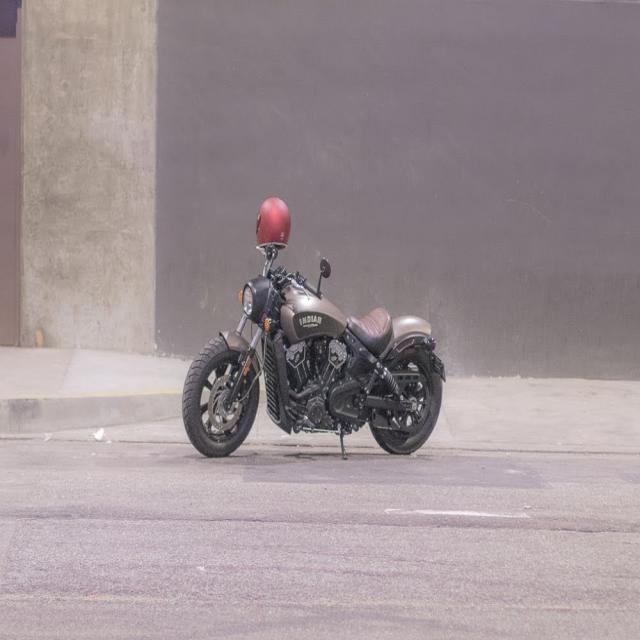motorcycle: (182, 200, 445, 456)
